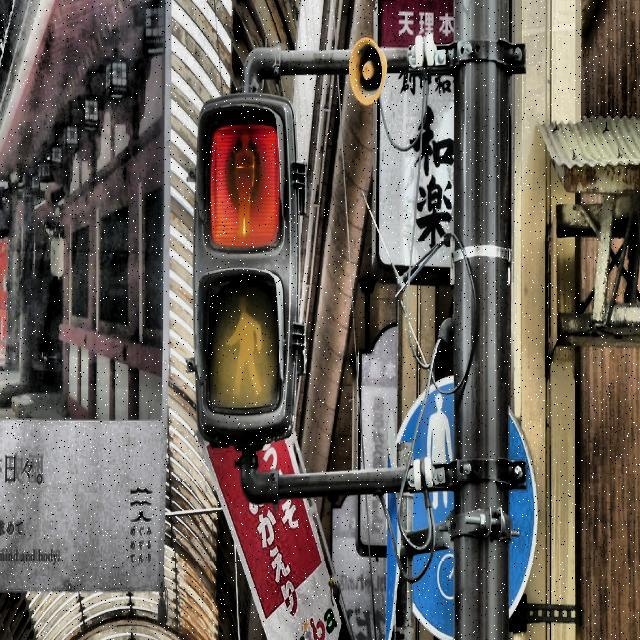red_light: (230, 127, 258, 240)
